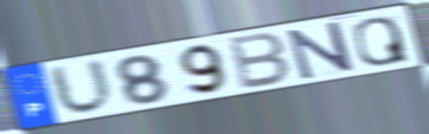8: (114, 53, 174, 107)
9: (174, 41, 231, 97)
B: (228, 30, 293, 92)
N: (284, 19, 358, 82)
Q: (351, 15, 413, 68)
U: (45, 56, 117, 117)
